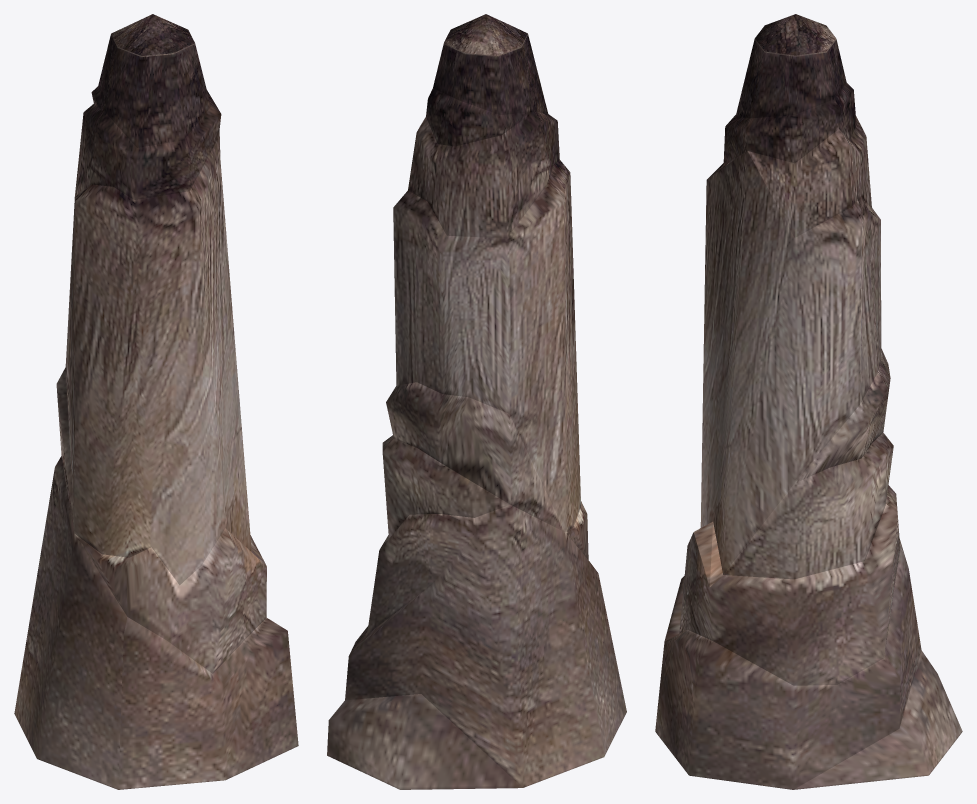
Rendered from stalagmite_small3.fbx.
3 views of the same model, side by side, from view 1: azimuth 30°, elevation 25°; view 2: azimuth 150°, elevation 25°; view 3: azimuth 270°, elevation 25° (orthographic).
Parts seen in each view (by area): view 1: mesh_0; view 2: mesh_0; view 3: mesh_0.
Boxes of the visible parts, bbox=[...] form: mesh_0: bbox=[14, 14, 298, 789]; mesh_0: bbox=[327, 14, 626, 789]; mesh_0: bbox=[655, 14, 962, 789].
Bounding box in the file's own units: 53.3 × 153 × 59.39.
Materials: 1 (1 with a texture image).
